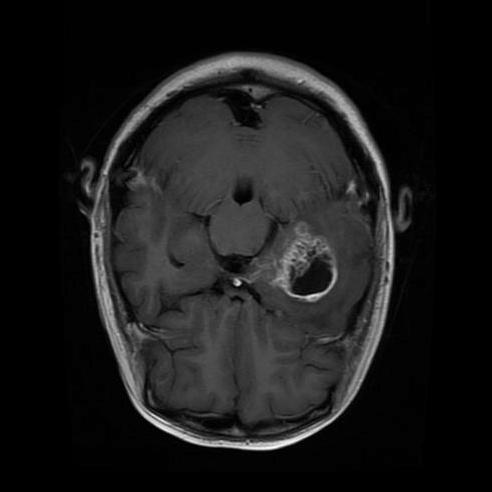Tumour-Glioma: (275, 236, 353, 310)
